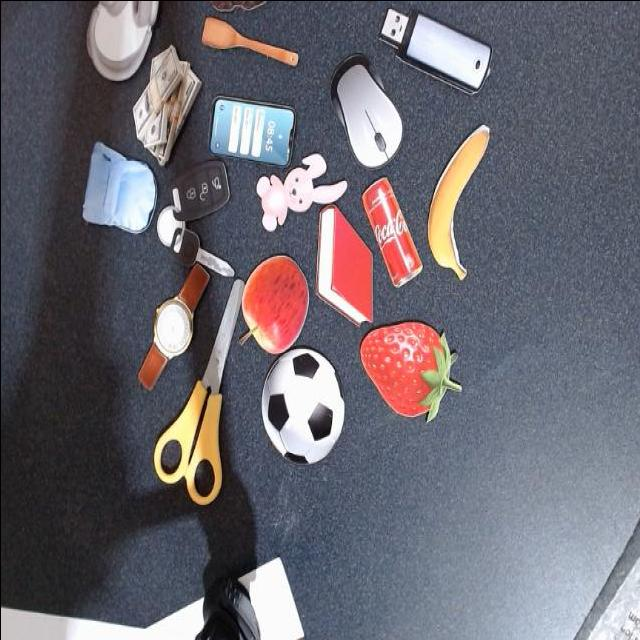Other Objects: (151, 276, 243, 504), (253, 337, 349, 471), (317, 45, 409, 176), (375, 0, 492, 95), (426, 123, 489, 279), (135, 261, 209, 389), (155, 158, 232, 281), (77, 141, 163, 245), (130, 43, 201, 165), (254, 151, 346, 231), (237, 253, 308, 353), (359, 175, 422, 287), (208, 93, 295, 165), (86, 0, 157, 79), (200, 15, 297, 65)
